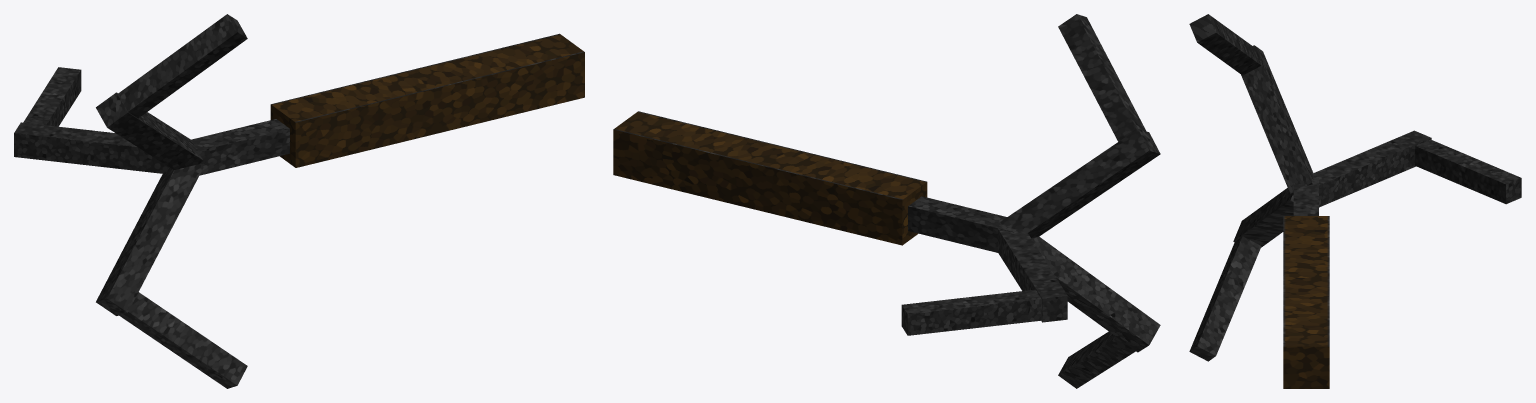
Rendered from grapple.obj.
3 views of the same model, side by side, from view 1: azimuth 30°, elevation 25°; view 2: azimuth 150°, elevation 25°; view 3: azimuth 270°, elevation 25° (orthographic). The views are drawn at different scales.
Visible parts, largest first — view 1: Grapple; view 2: Grapple; view 3: Grapple.
Part boxes in pixels (<box>): Grapple: <box>14,14,584,388</box>; Grapple: <box>613,14,1160,388</box>; Grapple: <box>1189,14,1521,388</box>.
Bounding box in the file's own units: 1.37 × 0.9785 × 0.8474.
